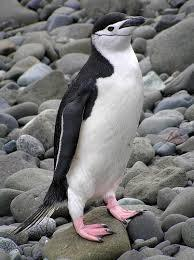chinstrap: (24, 18, 170, 255)
